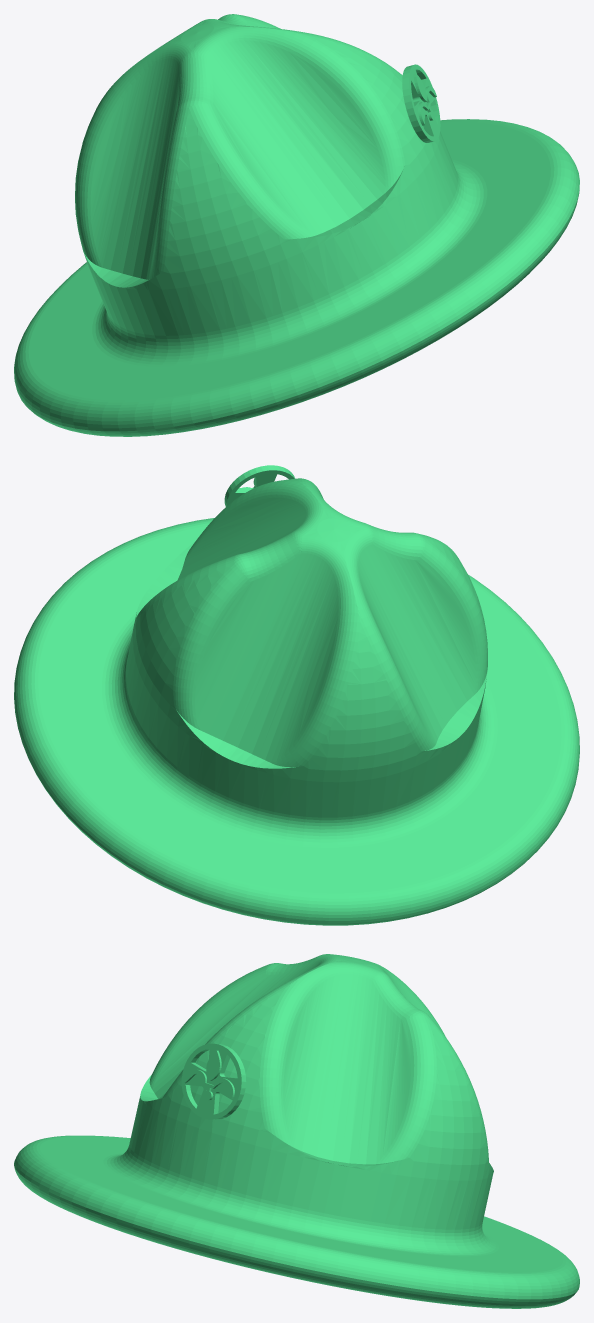
File: hat.glb
3 views of the same model, one above another, from view 1: azimuth 30°, elevation 25°; view 2: azimuth 150°, elevation 25°; view 3: azimuth 270°, elevation 25° (orthographic). The views are drawn at different scales.
Parts seen in each view (by area): view 1: cappellone; view 2: cappellone; view 3: cappellone.
Part boxes in pixels (x1,y1,x2,y2): cappellone: [14, 14, 579, 436]; cappellone: [14, 465, 579, 925]; cappellone: [14, 954, 579, 1308].
Bounding box in the file's own units: 1.54 × 1.05 × 1.56.
